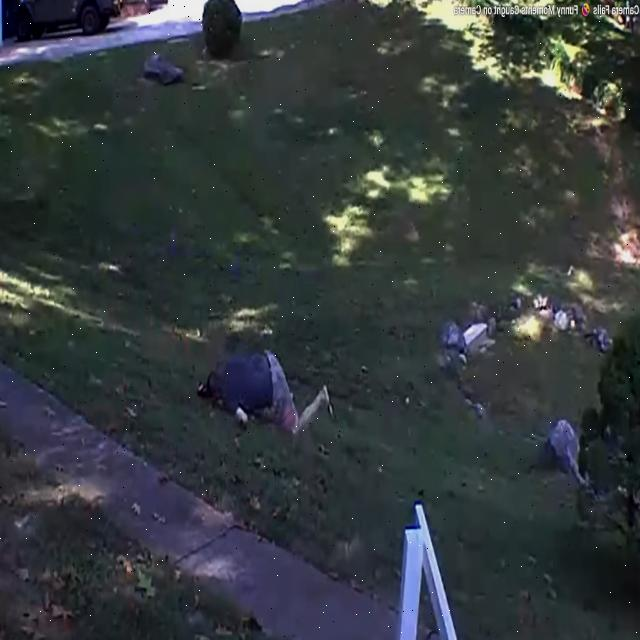fallen: (198, 350, 334, 433)
